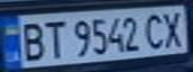2: (121, 12, 145, 52)
4: (106, 14, 127, 54)
5: (90, 16, 109, 56)
9: (69, 16, 93, 57)
B: (15, 18, 48, 62)
C: (139, 10, 169, 49)
T: (39, 17, 69, 61)
X: (160, 8, 190, 48)
